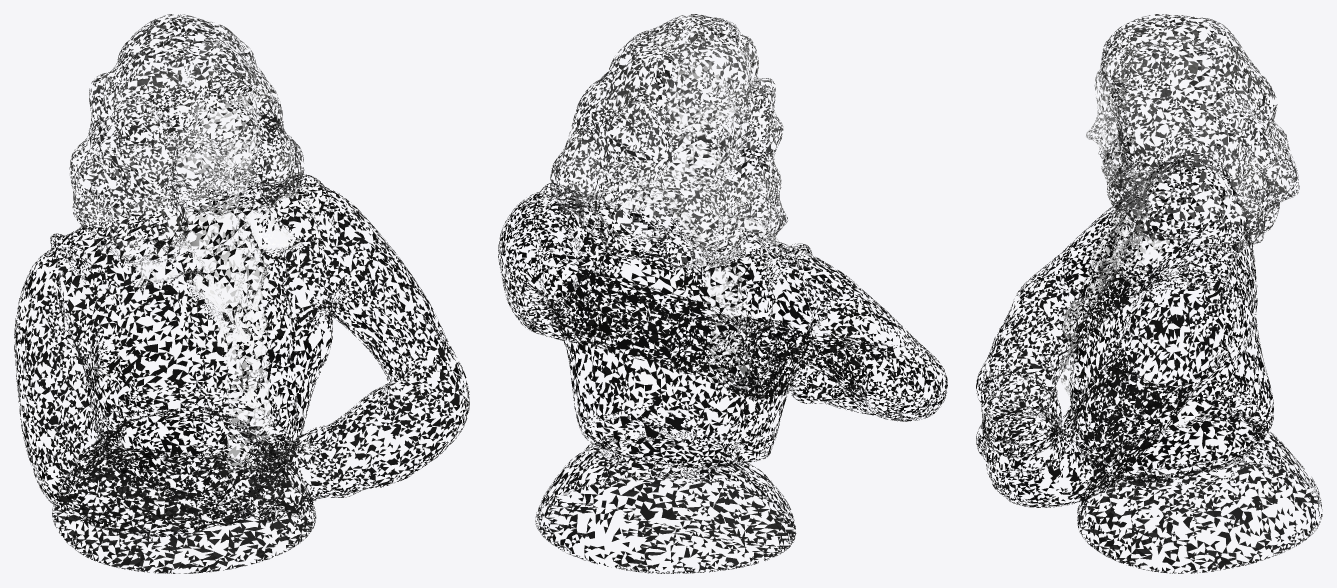
3 renders of one model, left to right at view 1: azimuth 30°, elevation 25°; view 2: azimuth 150°, elevation 25°; view 3: azimuth 270°, elevation 25°, orthographic. The views are drawn at different scales.
Size of the model in its own units: 1.65 by 1.9 by 1.21.
Materials: 1 (1 with a texture image).
